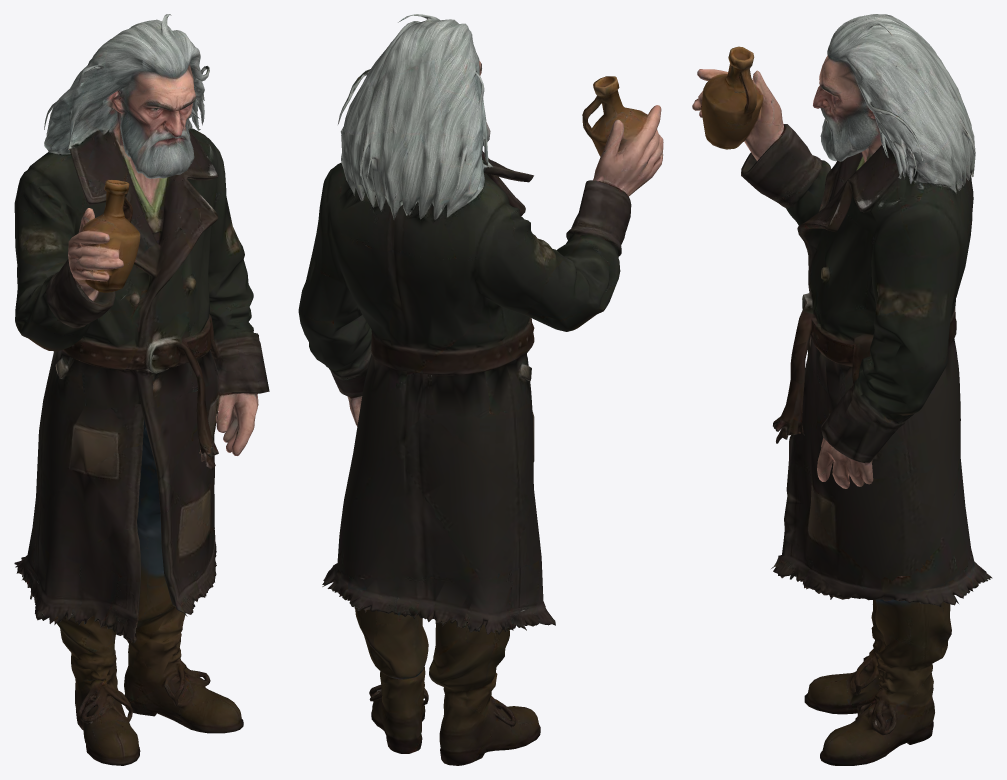
File: old_drunk.glb
3 renders of one model, left to right at view 1: azimuth 30°, elevation 25°; view 2: azimuth 150°, elevation 25°; view 3: azimuth 270°, elevation 25°, orthographic. The views are drawn at different scales.
Bounding box in the file's own units: 0.7329 × 1.9 × 0.7213.
1 material, 1 textured.
